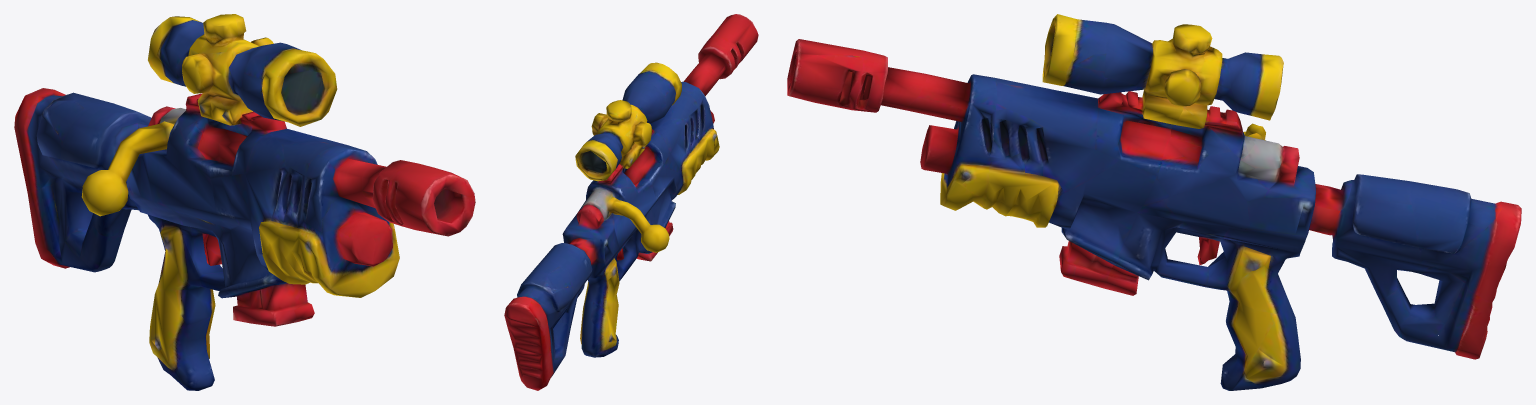
File: gun_sniper.glb
The picture shows the model from 3 angles, left to right: view 1: azimuth 30°, elevation 25°; view 2: azimuth 150°, elevation 25°; view 3: azimuth 270°, elevation 25°; orthographic projection. The views are drawn at different scales.
Parts seen in each view (by area): view 1: gun_sniper_mesh; view 2: gun_sniper_mesh; view 3: gun_sniper_mesh.
Boxes of the visible parts, bbox=[...] form: gun_sniper_mesh: bbox=[14, 14, 475, 390]; gun_sniper_mesh: bbox=[504, 14, 758, 390]; gun_sniper_mesh: bbox=[787, 14, 1521, 390].
Size of the model in its own units: 0.2776 by 0.6738 by 1.2.
Materials: 1 (1 with a texture image).
